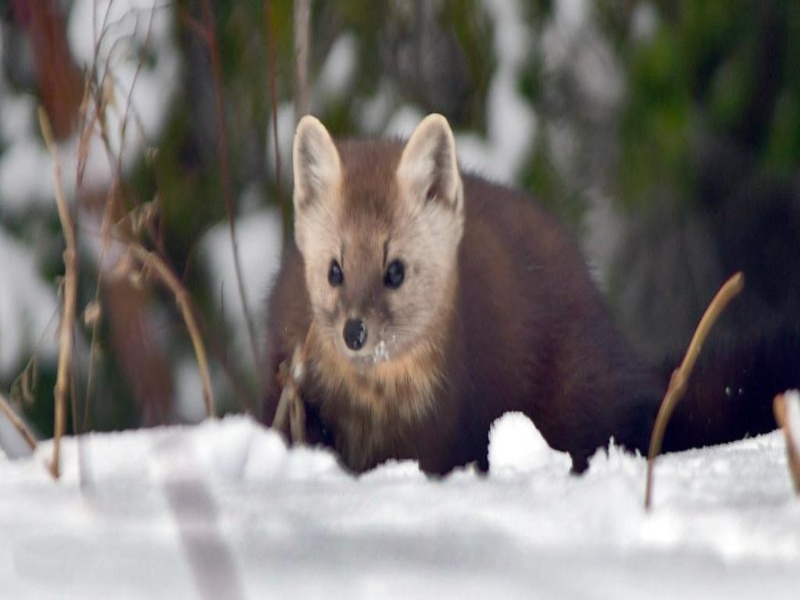minkish: (275, 113, 653, 482)
